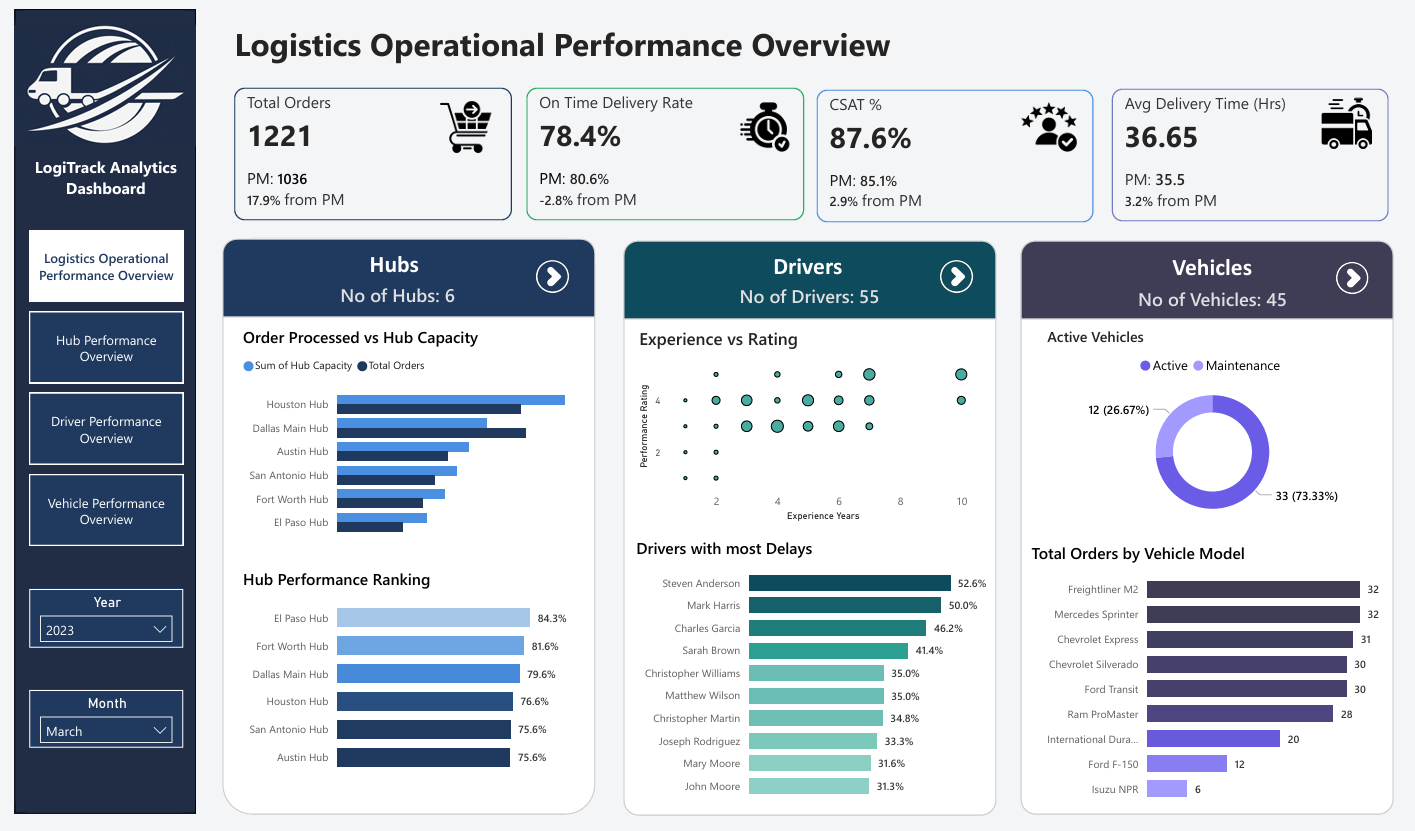

The page's visual inventory and layout, read from the dashboard file:
{"tool":"powerbi","page":{"name":"Logistics Operational Performance Overview","canvas":[1450,850],"ordinal":0},"visuals":[{"type":"shape","box":[15,10,185,820],"z":0},{"type":"textbox","box":[234,18,814,70],"z":1000},{"type":"cardVisual","fields":{"Data":["Orders.Total Orders"]},"box":[234.3,80,292.9,150],"z":2000},{"type":"slicer","title":"Month","fields":{"Values":["Date Table.Month"]},"box":[29.9,703.6,156.7,59.8],"z":3000},{"type":"cardVisual","fields":{"Data":["Orders.On Time Delivery Rate"]},"box":[531.7,80,293.3,150],"z":4000},{"type":"cardVisual","fields":{"Data":["Orders.CSAT %"]},"box":[828.3,81.7,291.7,150],"z":5000},{"type":"cardVisual","fields":{"Data":["Orders.Avg Delivery Time (Hrs)"]},"box":[1129.4,81.2,292,149.5],"z":6000},{"type":"shape","box":[227.1,242.9,380,588.6],"z":7000},{"type":"shape","box":[226.7,244.4,380,80],"z":8000},{"type":"textbox","box":[296.5,250.4,285.7,54.3],"z":9000},{"type":"cardVisual","fields":{"Data":["Hubs.No of Hubs"]},"box":[256.9,252,297,94],"z":10000},{"type":"clusteredBarChart","title":"Order Processed vs Hub Capacity","fields":{"Category":["Hubs.HubName"],"Y":["Sum(Hubs.Hub Capacity)","Orders.Total Orders"]},"box":[243.3,333.3,350,225],"z":11000},{"type":"barChart","title":"Hub Performance Ranking","fields":{"Category":["Hubs.HubName"],"Y":["Orders.On Time Delivery Rate"]},"box":[242.9,580,340,219],"z":12000},{"type":"shape","box":[636.1,245.7,380,586],"z":13000},{"type":"shape","box":[1041.4,245.7,380,585.7],"z":14000},{"type":"shape","box":[636.1,245.7,380,80],"z":15000},{"type":"cardVisual","fields":{"Data":["Drivers.No of Drivers"]},"box":[678.1,253.7,295,92],"z":16000},{"type":"textbox","box":[713.1,251.7,286,54],"z":17000},{"type":"scatterChart","title":"Experience vs Rating","fields":{"Y":["Drivers.Performance Rating"],"X":["Drivers.Experience Years"],"Size":["Sum(Drivers.Experience Years)"]},"box":[647.1,332.7,360,204],"z":18000},{"type":"barChart","title":"Drivers with most Delays","fields":{"Category":["Drivers.DriverName"],"Y":["Orders.Delayed Delivery Rate"]},"box":[644.1,547.7,367,276],"z":19000},{"type":"shape","box":[1041.2,246.3,380,80],"z":20000},{"type":"textbox","box":[1120.1,253.1,242.9,47.1],"z":21000},{"type":"cardVisual","fields":{"Data":["Vehicles.No of Vehicles"]},"box":[1088.6,257.1,295.7,92.9],"z":22000},{"type":"donutChart","title":"Active Vehicles","fields":{"Category":["Vehicles.Vehicle Status"],"Y":["CountNonNull(Vehicles.Vehicle ID)"]},"box":[1062.9,332.9,347.1,208.6],"z":23000},{"type":"barChart","fields":{"Category":["Vehicles.Vehicle Model"],"Y":["Orders.Total Orders"]},"box":[1047.1,552.9,367.1,275.7],"z":24000},{"type":"textbox","box":[17.5,155,180,71.2],"z":25000},{"type":"image","box":[15,10,185,155],"z":26000},{"type":"image","box":[943.3,258.3,63.3,48.3],"z":27000},{"type":"image","box":[531.7,258.3,63.3,48.3],"z":28000},{"type":"image","box":[1346.7,260,63.3,48.3],"z":29000},{"type":"pageNavigator","box":[29.9,235,156.7,321.9],"z":30000},{"type":"image","box":[430,100,90,60],"z":31000},{"type":"image","box":[735,100,90,60],"z":32000},{"type":"image","box":[1025,100,90,60],"z":33000},{"type":"image","box":[1325,100,97,53],"z":34000},{"type":"slicer","title":"Year","fields":{"Values":["Date Table.Year"]},"box":[30,601.4,157.1,60],"z":35000}]}

Visuals, with their boxes on the page's 1450x850 design canvas (x1, y1, x2, y2). These are canvas units, not pixel positions in the 1415x831 screenshot, which may show the page scaled, cropped or inside an application window:
shape: 15,10,200,830
textbox: 234,18,1048,88
cardVisual - Orders.Total Orders: 234,80,527,230
"Month" slicer: 30,704,187,763
cardVisual - Orders.On Time Delivery Rate: 532,80,825,230
cardVisual - Orders.CSAT %: 828,82,1120,232
cardVisual - Orders.Avg Delivery Time (Hrs): 1129,81,1421,231
shape: 227,243,607,832
shape: 227,244,607,324
textbox: 296,250,582,305
cardVisual - Hubs.No of Hubs: 257,252,554,346
"Order Processed vs Hub Capacity" clusteredBarChart: 243,333,593,558
"Hub Performance Ranking" barChart: 243,580,583,799
shape: 636,246,1016,832
shape: 1041,246,1421,831
shape: 636,246,1016,326
cardVisual - Drivers.No of Drivers: 678,254,973,346
textbox: 713,252,999,306
"Experience vs Rating" scatterChart: 647,333,1007,537
"Drivers with most Delays" barChart: 644,548,1011,824
shape: 1041,246,1421,326
textbox: 1120,253,1363,300
cardVisual - Vehicles.No of Vehicles: 1089,257,1384,350
"Active Vehicles" donutChart: 1063,333,1410,542
barChart - Vehicles.Vehicle Model x Orders.Total Orders: 1047,553,1414,829
textbox: 18,155,198,226
image: 15,10,200,165
image: 943,258,1007,307
image: 532,258,595,307
image: 1347,260,1410,308
pageNavigator: 30,235,187,557
image: 430,100,520,160
image: 735,100,825,160
image: 1025,100,1115,160
image: 1325,100,1422,153
"Year" slicer: 30,601,187,661
